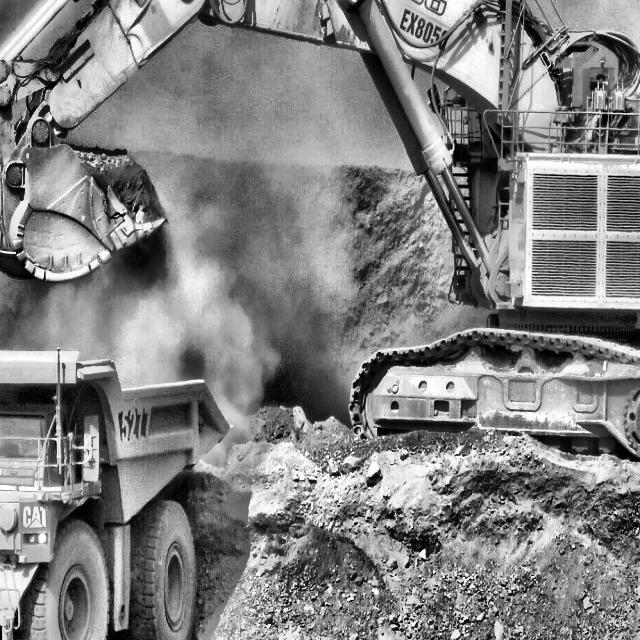dump_truck: (0, 280, 234, 640)
excavator: (0, 0, 640, 535)
